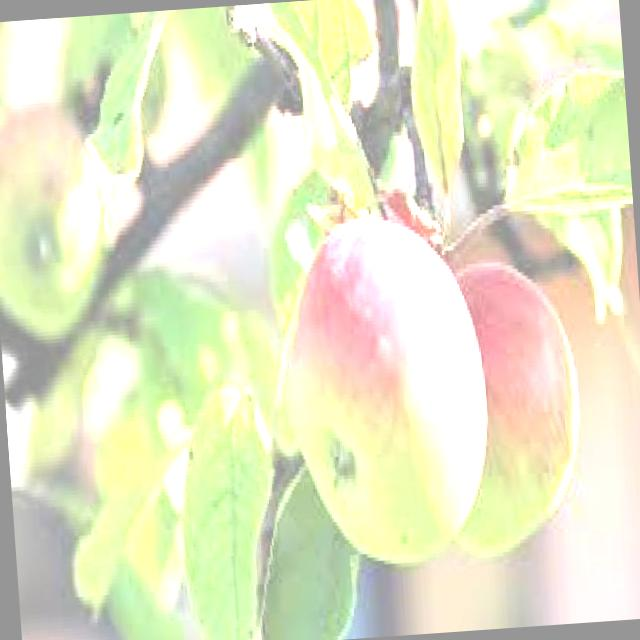Apple: (280, 209, 494, 568), (440, 257, 590, 556), (0, 97, 109, 347)
